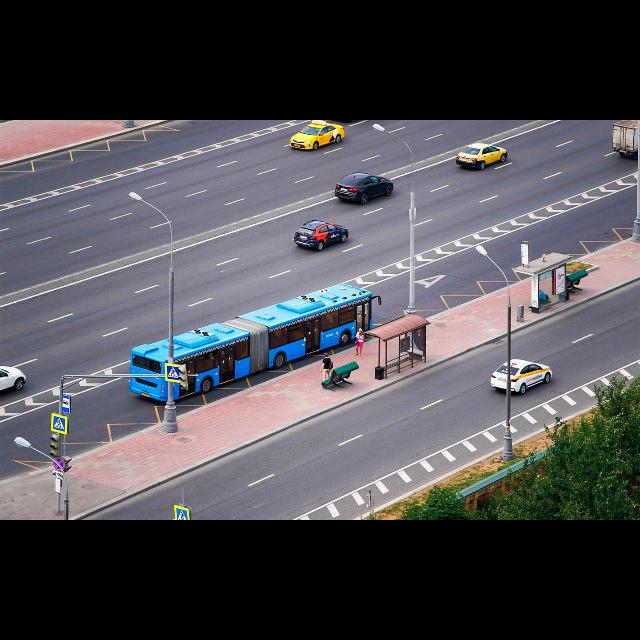road: (0, 120, 524, 335), (125, 344, 505, 520), (415, 121, 636, 252), (0, 255, 168, 413), (0, 121, 281, 203), (512, 283, 640, 413), (483, 187, 635, 280), (66, 379, 162, 470), (416, 248, 505, 316), (0, 404, 56, 477), (361, 274, 408, 323)
